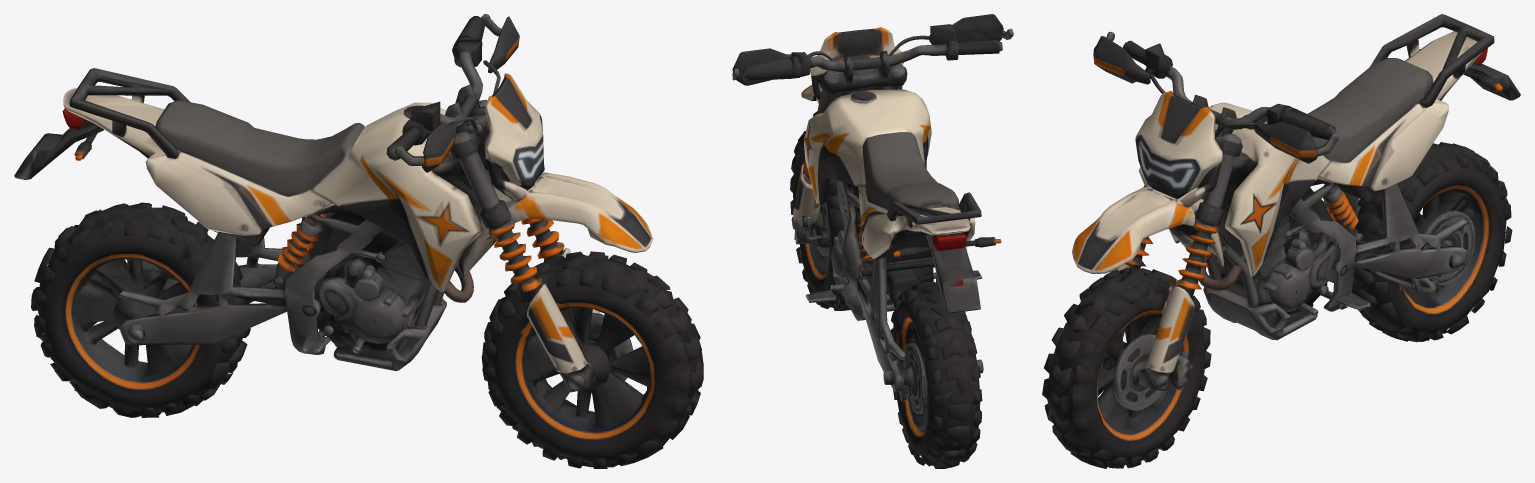
Rendered from tripo_convert_397111a9-979d-4287-ae8b-be3482d6e98d.glb.
3 views of the same model, side by side, from view 1: azimuth 30°, elevation 25°; view 2: azimuth 150°, elevation 25°; view 3: azimuth 270°, elevation 25° (orthographic). The views are drawn at different scales.
Visible parts, largest first — view 1: tripo_node_397111a9-979d-4287-ae8b-be3482d6e98d; view 2: tripo_node_397111a9-979d-4287-ae8b-be3482d6e98d; view 3: tripo_node_397111a9-979d-4287-ae8b-be3482d6e98d.
Boxes of the visible parts, x1=… form: tripo_node_397111a9-979d-4287-ae8b-be3482d6e98d: x1=14, y1=14, x2=703, y2=468; tripo_node_397111a9-979d-4287-ae8b-be3482d6e98d: x1=732, y1=14, x2=1013, y2=468; tripo_node_397111a9-979d-4287-ae8b-be3482d6e98d: x1=1042, y1=14, x2=1520, y2=468.
Bounding box in the file's own units: 0.9995 × 0.7964 × 0.9917.
Materials: 1 (1 with a texture image).
